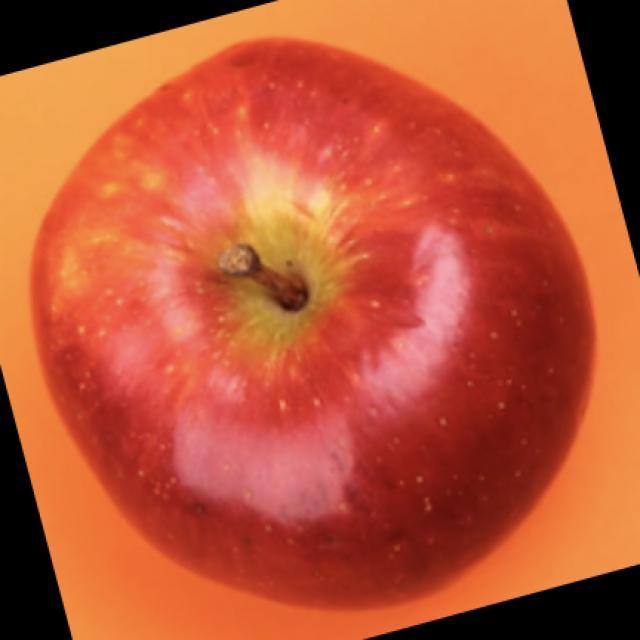Fresh Apple: (58, 42, 580, 605)
